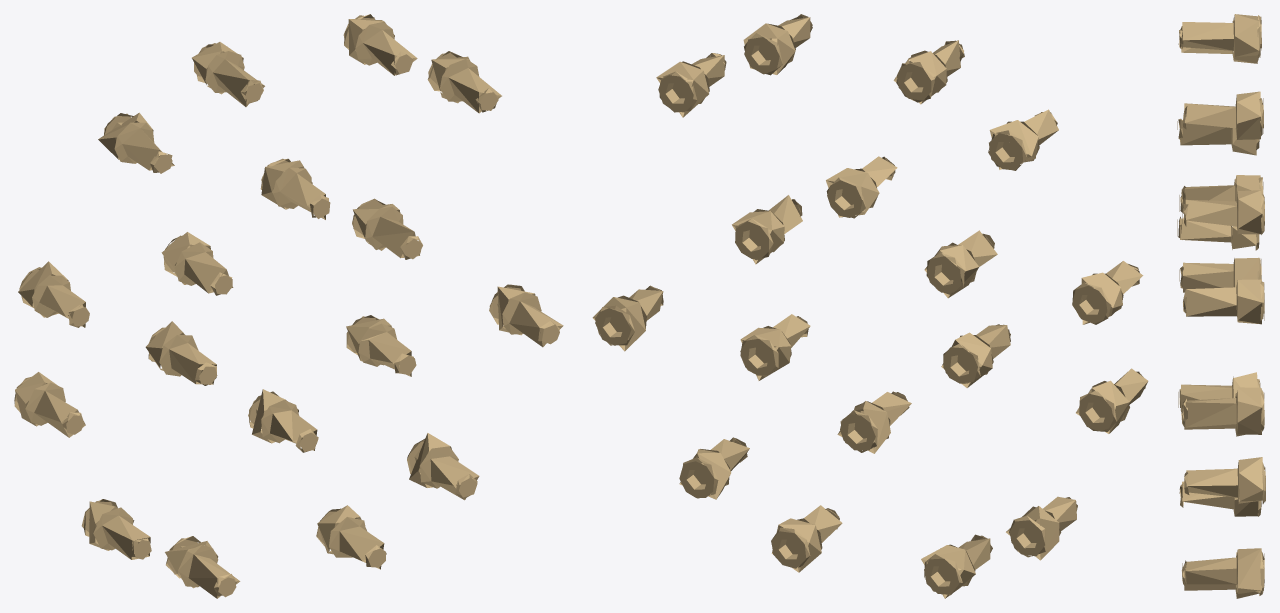
The model's file is middle_left_wheel_137.dae.
The picture shows the model from 3 angles, left to right: view 1: azimuth 30°, elevation 25°; view 2: azimuth 150°, elevation 25°; view 3: azimuth 270°, elevation 25°; orthographic projection. The views are drawn at different scales.
Parts seen in each view (by area): view 1: node; view 2: node; view 3: node.
Part boxes in pixels (bbox=[...]): node: bbox=[14, 14, 563, 598]; node: bbox=[592, 14, 1148, 598]; node: bbox=[1177, 14, 1265, 598].
Bounding box in the file's own units: 0.1701 × 0.026 × 0.1685.
